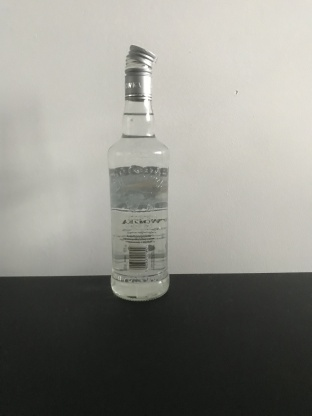nakretka: (123, 42, 156, 103)
